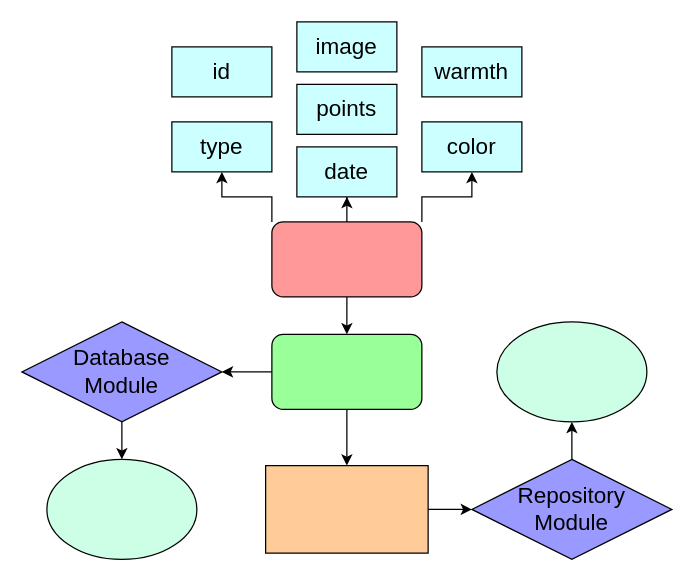
Some shapes in this 694 by 581 pixel diagram are drawn without their labels. The shapes that lost their labels are listed below. From the top down, each one's box as (x1, y1, x2, y2) in pixels, then its label:
(271, 221, 422, 297): data class Clothing
(271, 333, 422, 409): ClothingDao
(496, 321, 647, 422): Clothing Repository
(46, 458, 197, 559): Clothing Databse
(264, 464, 428, 553): Closet Repository Impl
